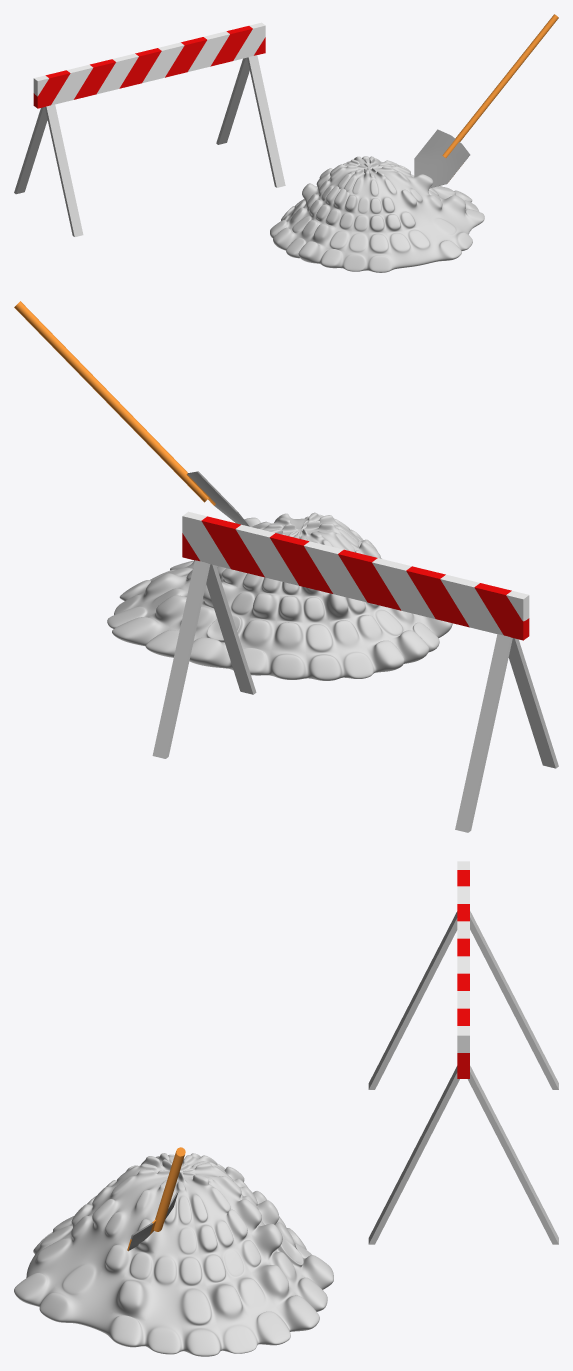
The model's file is Under Construction.fbx.
3 renders of one model, top to bottom at view 1: azimuth 30°, elevation 25°; view 2: azimuth 150°, elevation 25°; view 3: azimuth 270°, elevation 25°, orthographic. The views are drawn at different scales.
Parts seen in each view (by area): view 1: Cone01, Box01, Box06, Box04, Box05, Box03, Box02; view 2: Cone01, Box01, Box06, Box02, Box03, Box05, Box04; view 3: Cone01, Box01, Box05, Box02, Box04, Box03, Box06.
Boxes of the visible parts, box(x1,y1,x2,y2) form: Cone01: box(270, 156, 484, 272); Box01: box(33, 22, 265, 108); Box06: box(414, 14, 558, 188); Box04: box(45, 104, 83, 236); Box05: box(247, 55, 285, 187); Box03: box(14, 107, 47, 194); Box02: box(216, 57, 249, 144); Cone01: box(107, 512, 452, 680); Box01: box(182, 511, 529, 640); Box06: box(14, 301, 249, 526); Box02: box(152, 560, 210, 758); Box03: box(455, 634, 512, 832); Box05: box(206, 564, 256, 694); Box04: box(508, 638, 558, 768); Cone01: box(14, 1153, 333, 1356); Box01: box(457, 861, 469, 1078); Box05: box(368, 1066, 459, 1244); Box02: box(467, 1065, 558, 1244); Box04: box(368, 911, 457, 1089); Box03: box(470, 911, 558, 1089); Box06: box(127, 1147, 185, 1251).
Bounding box in the file's own units: 626 × 242 × 436.
